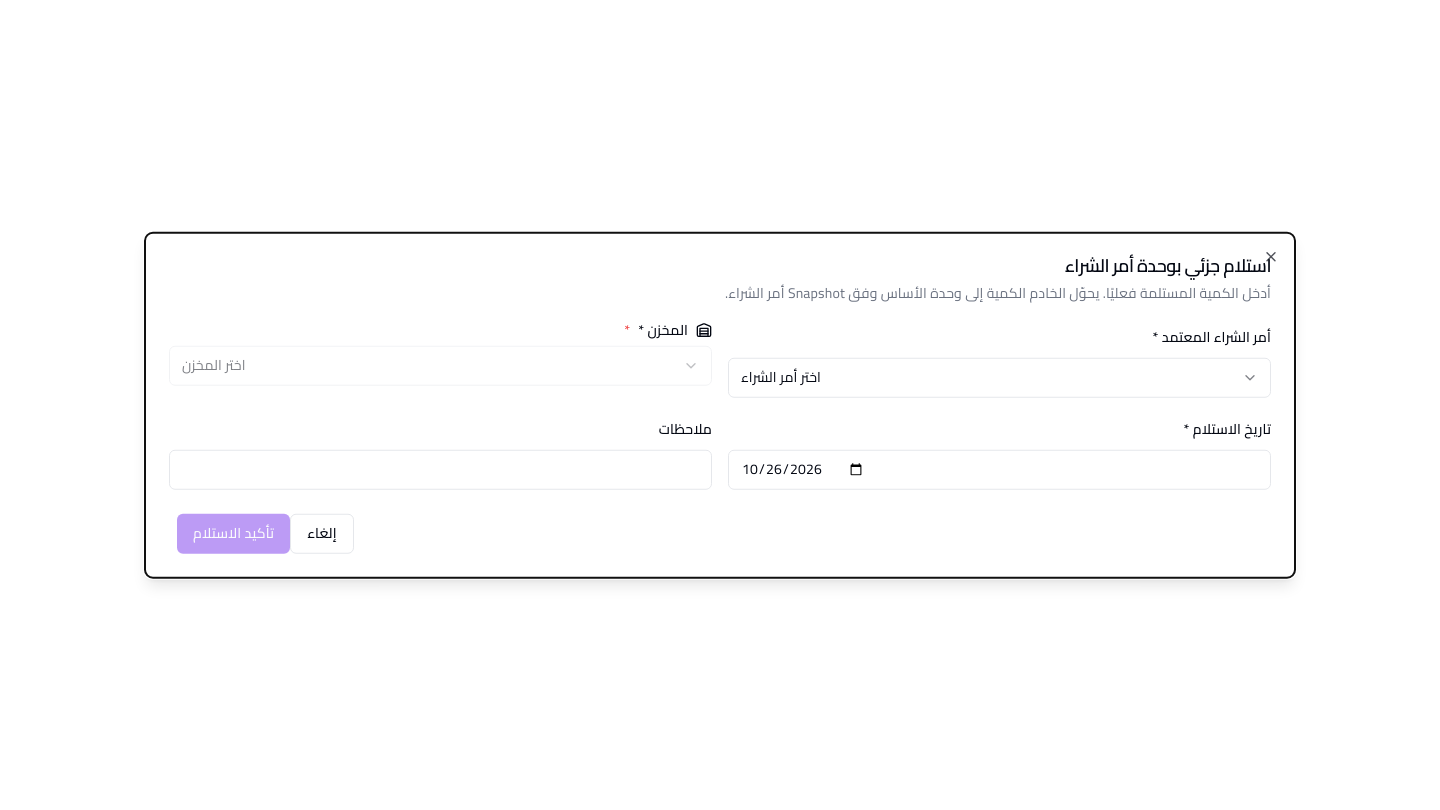
Test case: UomGoodsReceiptForm › تحميل الأوامر › يعرض حالة التحميل ثم الأمر القابل للاستلام
expect the text "جاري التحميل…" is shown: met, box [741, 365, 821, 390]
Click the dropdown named "أمر الشراء المعتمد" at (781, 377), box [728, 357, 1271, 397]
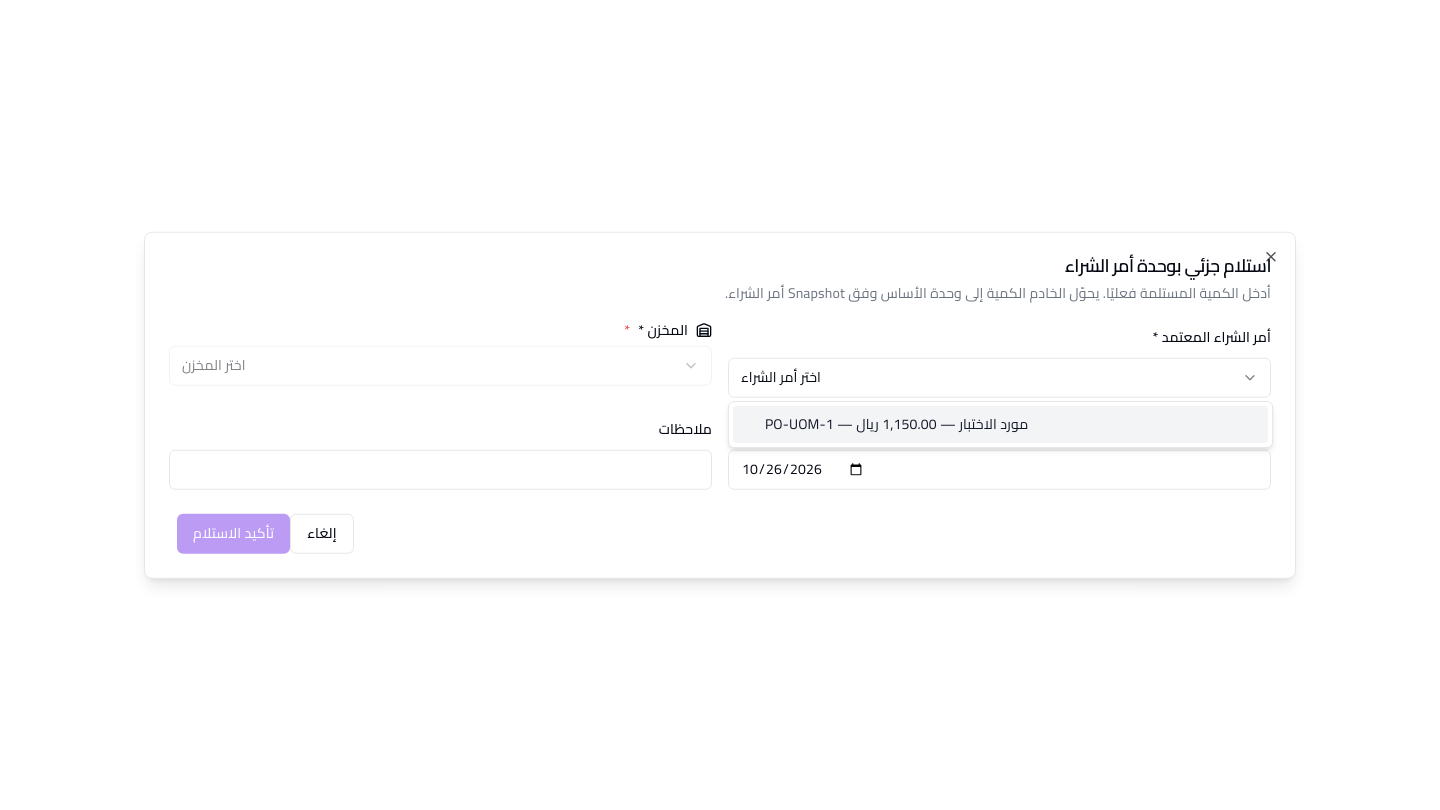
expect the option "PO-UOM-1 — مورد الاختبار — 1,150.00 ريال" is shown: met, box [733, 406, 1268, 442]
